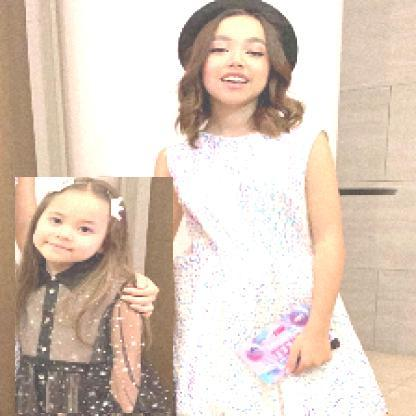child: (16, 178, 175, 415)
